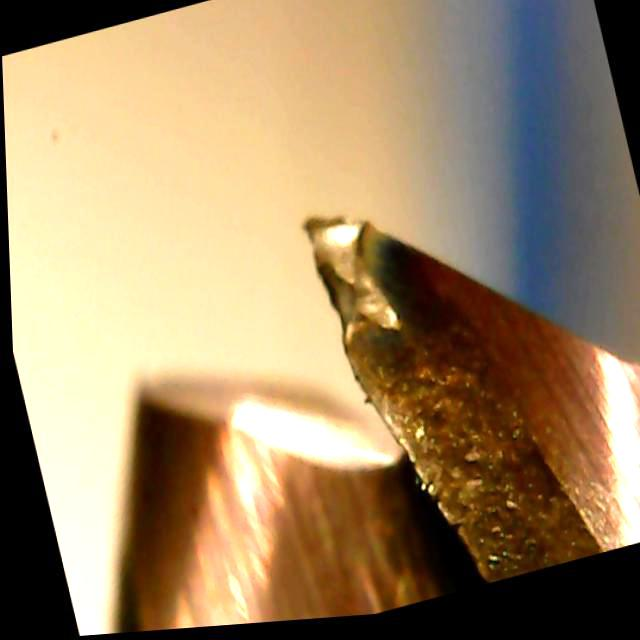Tool-wear-class-2: (283, 166, 552, 578)
